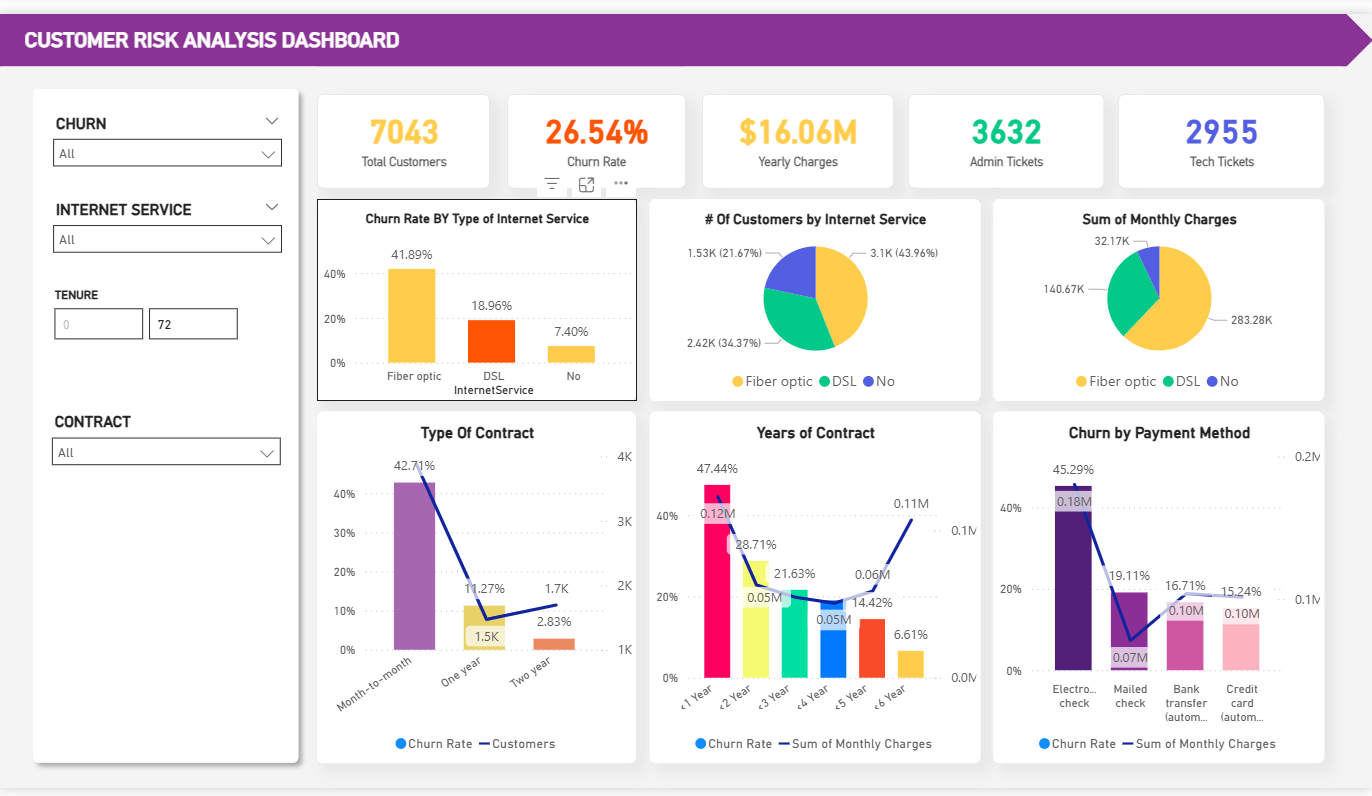

The page's visual inventory and layout, read from the dashboard file:
{"tool":"powerbi","page":{"name":"Customer Risk Analysis","canvas":[1280,720],"ordinal":1},"visuals":[{"type":"shape","box":[0,0,1280,49],"z":0},{"type":"textbox","box":[21,8,438,33],"z":1000},{"type":"shape","box":[25,61,265,645],"z":2000},{"type":"slicer","fields":{"Values":["Churn.Churn"]},"box":[42,82,233,81],"z":3000},{"type":"slicer","fields":{"Values":["Churn.InternetService"]},"box":[42,163,233,81],"z":4000},{"type":"slicer","fields":{"Values":["Churn.tenure"]},"box":[41,244,233,97],"z":5000},{"type":"slicer","fields":{"Values":["Churn.Contract"]},"box":[41,360,233,81],"z":6000},{"type":"card","fields":{"Values":["Min(01 Churn-Dataset.customerID)"]},"box":[298,74,161,88],"z":7000},{"type":"card","fields":{"Values":["Churn.% Churn Rate"]},"box":[474,75,166,88],"z":8000},{"type":"card","fields":{"Values":["Sum(Churn.TotalCharges)"]},"box":[656,75,178,88],"z":9000},{"type":"card","fields":{"Values":["Sum(Churn.numAdminTickets)"]},"box":[848,75,182,88],"z":10000},{"type":"card","fields":{"Values":["Sum(Churn.numTechTickets)"]},"box":[1043,74,192,88],"z":11000},{"type":"columnChart","title":"Churn Rate BY Type of Internet Service","fields":{"Y":["Churn.% Churn Rate"],"Category":["Churn.InternetService"]},"box":[298,172,297,188],"z":12000},{"type":"pieChart","title":"# Of Customers by Internet Service","fields":{"Y":["CountNonNull(Churn.customerID)"],"Category":["Churn.InternetService"]},"box":[607,172,308,188],"z":13000},{"type":"pieChart","title":"Sum of Monthly Charges","fields":{"Category":["Churn.InternetService"],"Y":["Sum(Churn.MonthlyCharges)"]},"box":[927,172,308,188],"z":14000},{"type":"lineStackedColumnComboChart","title":"Type Of Contract","fields":{"Y2":["CountNonNull(Churn.customerID)"],"Y":["Churn.% Churn Rate"],"Category":["Churn.Contract"]},"box":[298,370,297,327],"z":15000},{"type":"lineStackedColumnComboChart","title":"Years of Contract","fields":{"Y":["Churn.% Churn Rate"],"Y2":["Sum(Churn.MonthlyCharges)"],"Category":["Churn.Tenure(in years)"]},"box":[607,370,308,327],"z":16000},{"type":"lineStackedColumnComboChart","title":"Churn by Payment Method","fields":{"Y":["Churn.% Churn Rate"],"Y2":["Sum(Churn.MonthlyCharges)"],"Category":["Churn.PaymentMethod"]},"box":[927,370,308,327],"z":17000}]}

Visuals, with their boxes on the page's 1280x720 design canvas (x1, y1, x2, y2). These are canvas units, not pixel positions in the 1372x796 screenshot, which may show the page scaled, cropped or inside an application window:
shape: bbox=(0, 0, 1280, 49)
textbox: bbox=(21, 8, 459, 41)
shape: bbox=(25, 61, 290, 706)
slicer - Churn.Churn: bbox=(42, 82, 275, 163)
slicer - Churn.InternetService: bbox=(42, 163, 275, 244)
slicer - Churn.tenure: bbox=(41, 244, 274, 341)
slicer - Churn.Contract: bbox=(41, 360, 274, 441)
card - Min(01 Churn-Dataset.customerID): bbox=(298, 74, 459, 162)
card - Churn.% Churn Rate: bbox=(474, 75, 640, 163)
card - Sum(Churn.TotalCharges): bbox=(656, 75, 834, 163)
card - Sum(Churn.numAdminTickets): bbox=(848, 75, 1030, 163)
card - Sum(Churn.numTechTickets): bbox=(1043, 74, 1235, 162)
"Churn Rate BY Type of Internet Service" columnChart: bbox=(298, 172, 595, 360)
"# Of Customers by Internet Service" pieChart: bbox=(607, 172, 915, 360)
"Sum of Monthly Charges" pieChart: bbox=(927, 172, 1235, 360)
"Type Of Contract" lineStackedColumnComboChart: bbox=(298, 370, 595, 697)
"Years of Contract" lineStackedColumnComboChart: bbox=(607, 370, 915, 697)
"Churn by Payment Method" lineStackedColumnComboChart: bbox=(927, 370, 1235, 697)
